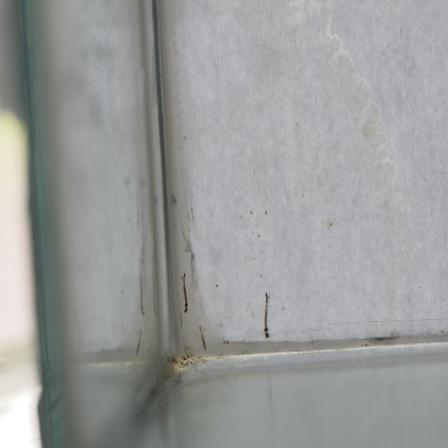Jentik-Nyamuk: (259, 287, 275, 342), (178, 270, 191, 315)
